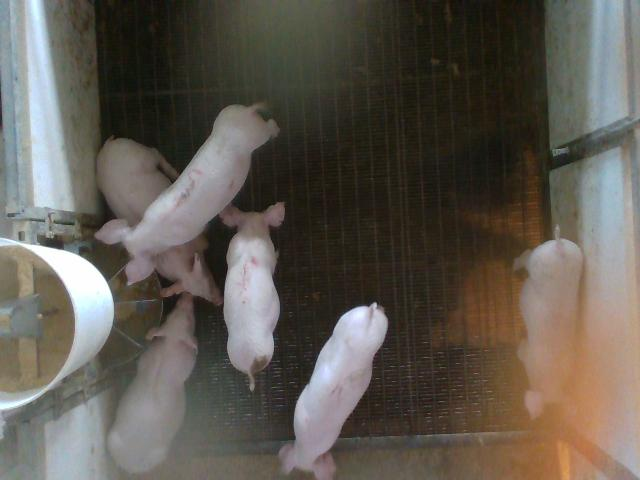pig-3: (96, 104, 279, 282)
pig-5: (219, 202, 285, 391)
